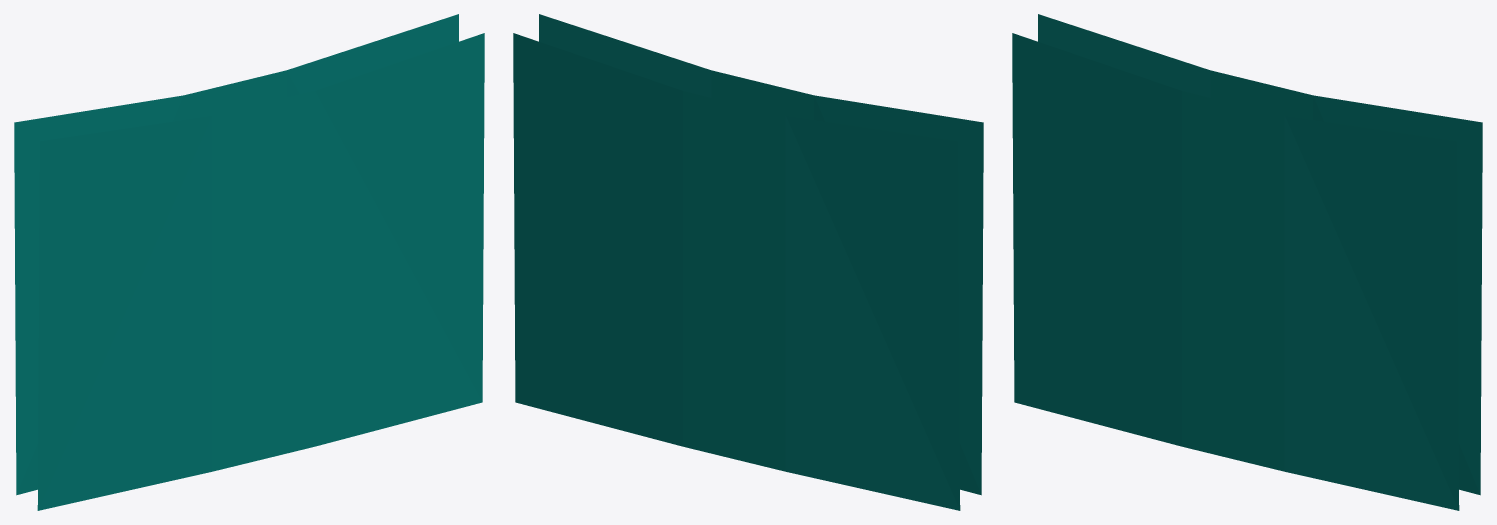
File: door2.obj
3 renders of one model, left to right at view 1: azimuth 30°, elevation 25°; view 2: azimuth 150°, elevation 25°; view 3: azimuth 330°, elevation 25°, orthographic.
Parts seen in each view (by area): view 1: 立方体.001; view 2: 立方体.001; view 3: 立方体.001.
Part boxes in pixels (<box>): 立方体.001: <box>14,14,484,510</box>; 立方体.001: <box>513,14,983,510</box>; 立方体.001: <box>1012,14,1482,510</box>.
Size of the model in its own units: 1.71 by 1.36 by 0.1879.
1 material, 1 textured.
